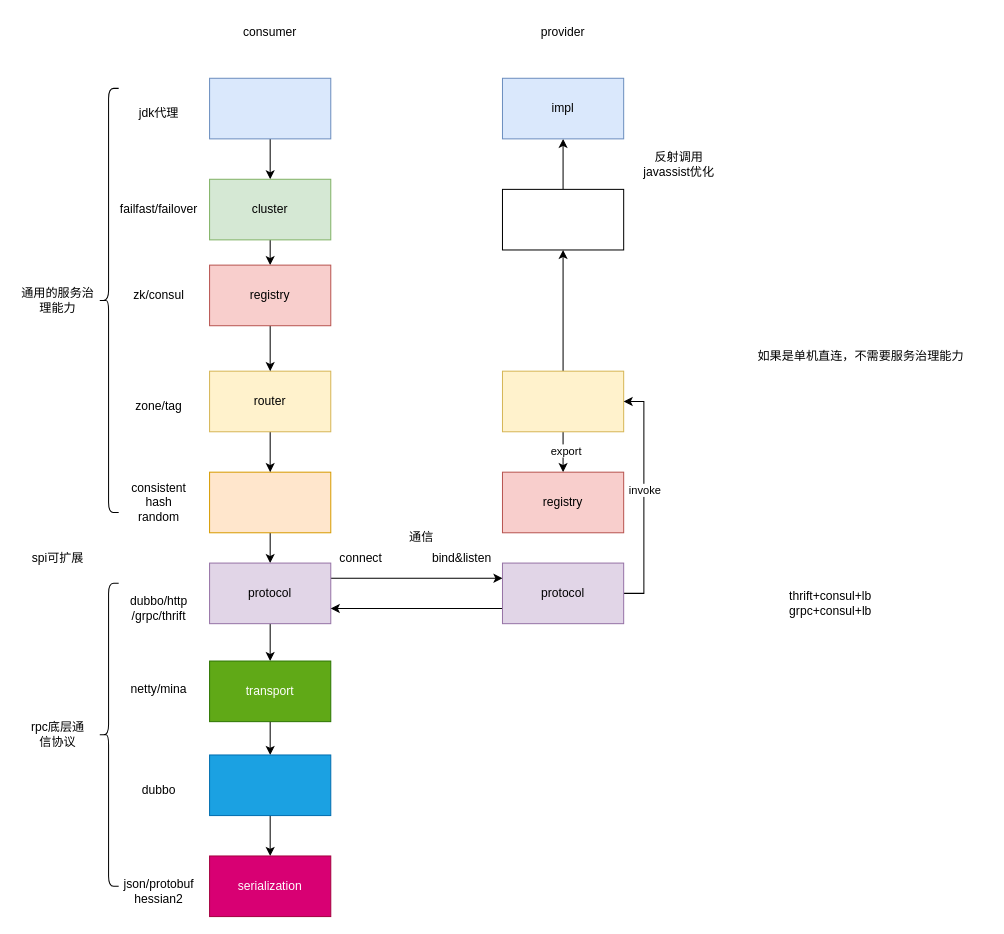
This 1004x934 diagram has some shape labels left out. The centre of each missing label's shape, as x and y in pixels:
"codec" belongs at [270,785].
"invoker" belongs at [562,219].
"loadbalance" belongs at [270,502].
"proxy" belongs at [270,108].
"serviceBean" belongs at [562,401].
